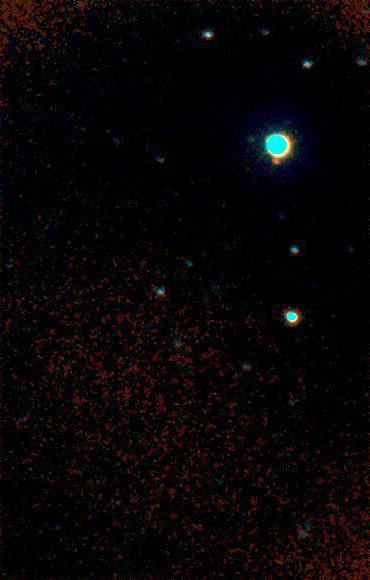star: (261, 147, 291, 177)
